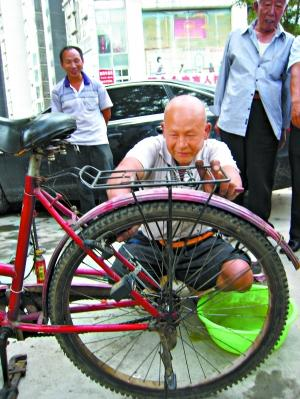person: (105, 94, 255, 301)
